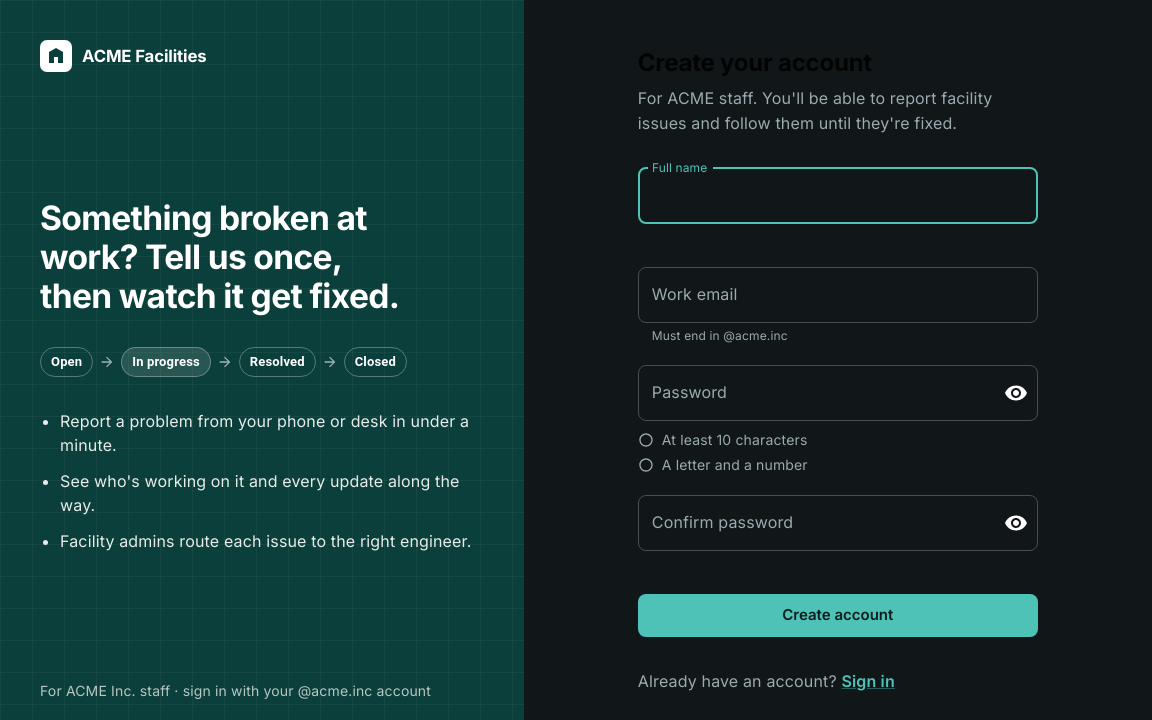
Scenario: Register page › catches passwords that do not match
Type "Sam Lee" into the field labelled "Full name" at x=838, y=196, box [638,168,1038,224]
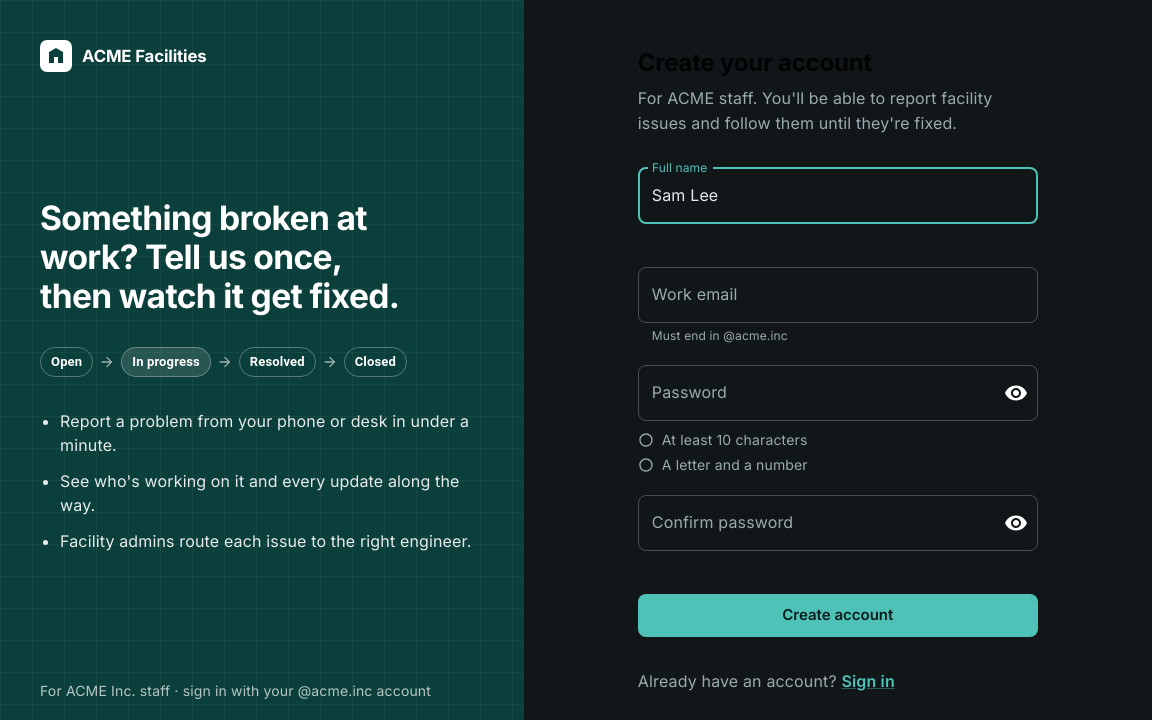
Type "sam.lee@acme.inc" into the field labelled "Work email" at x=838, y=294, box [638,266,1038,322]
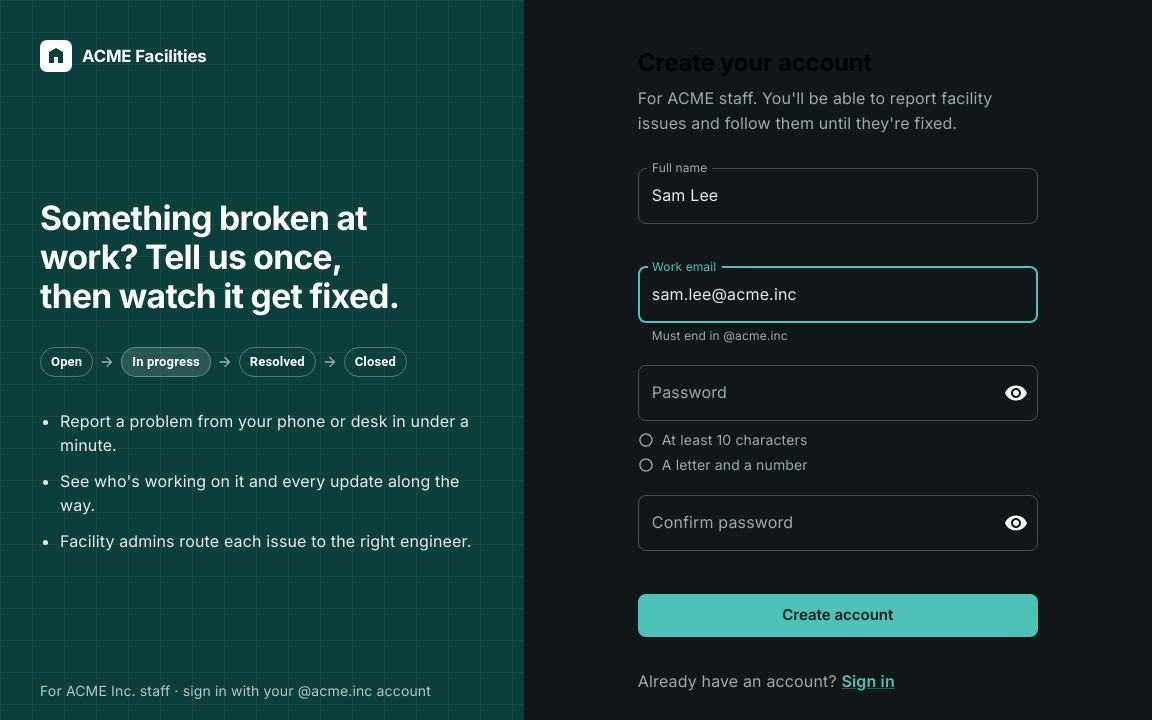
Type "Welcome2026" into the password field labelled "Password" at x=813, y=393, box [638,365,988,421]
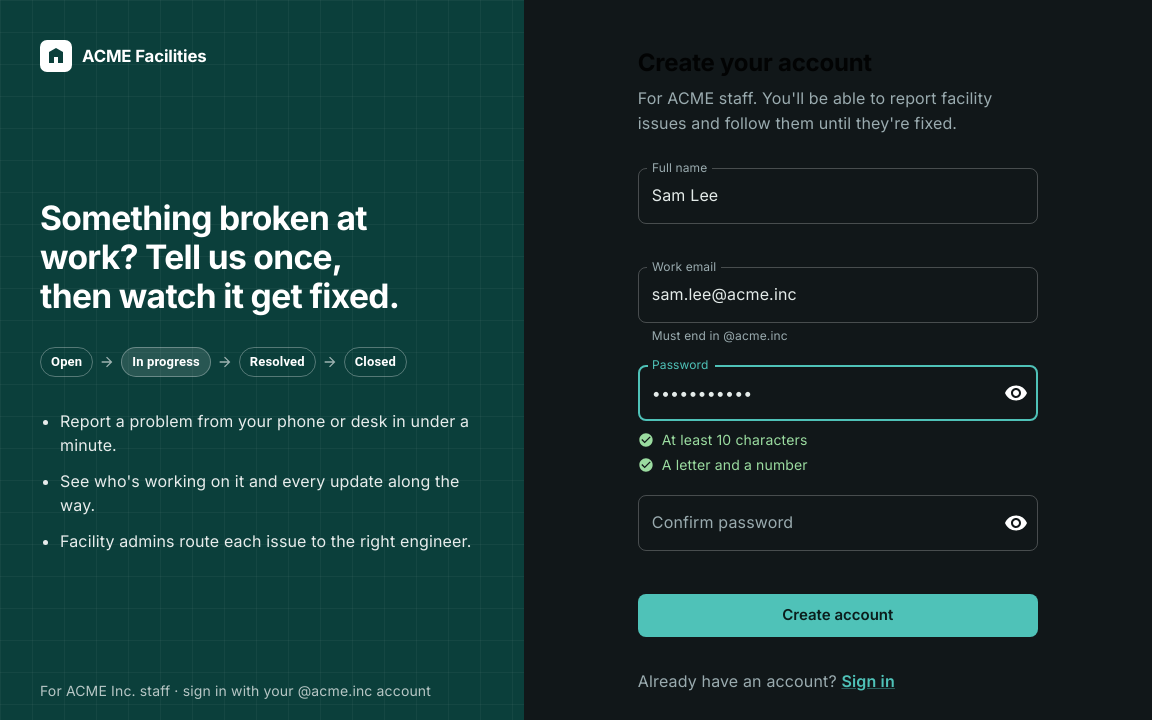
Type "Welcome2027" into the password field labelled "Confirm password" at x=813, y=523, box [638,495,988,551]
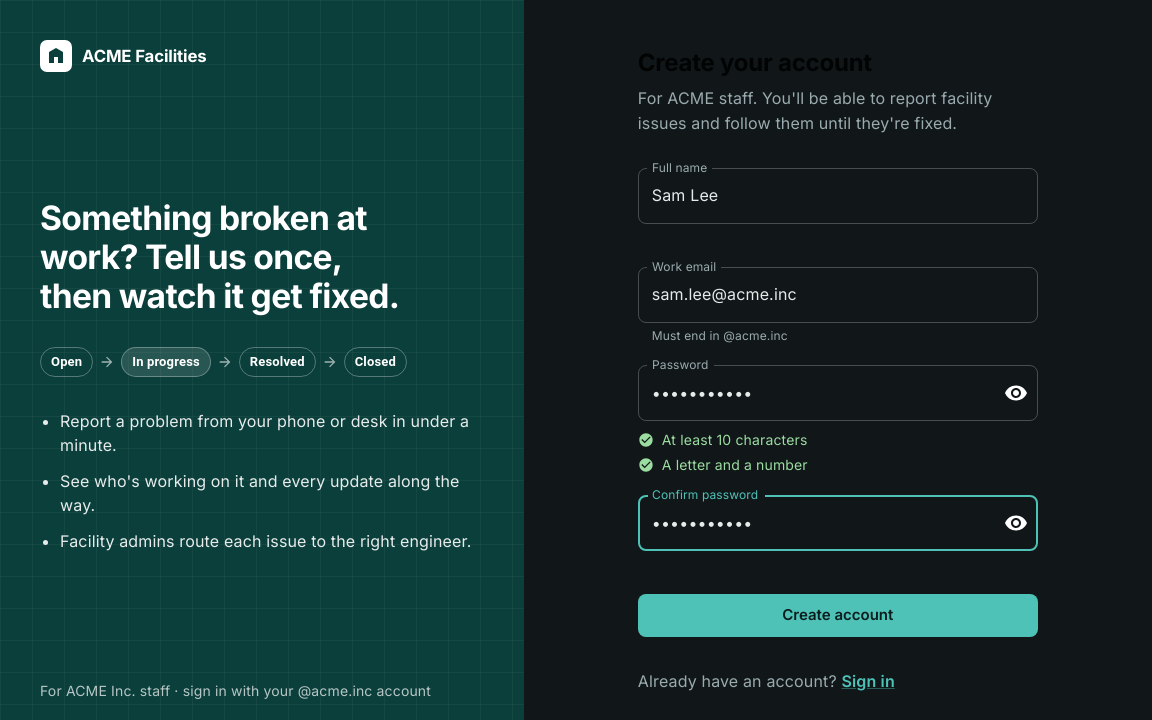
Click the button "Create account" at x=838, y=615, box [638,594,1038,637]
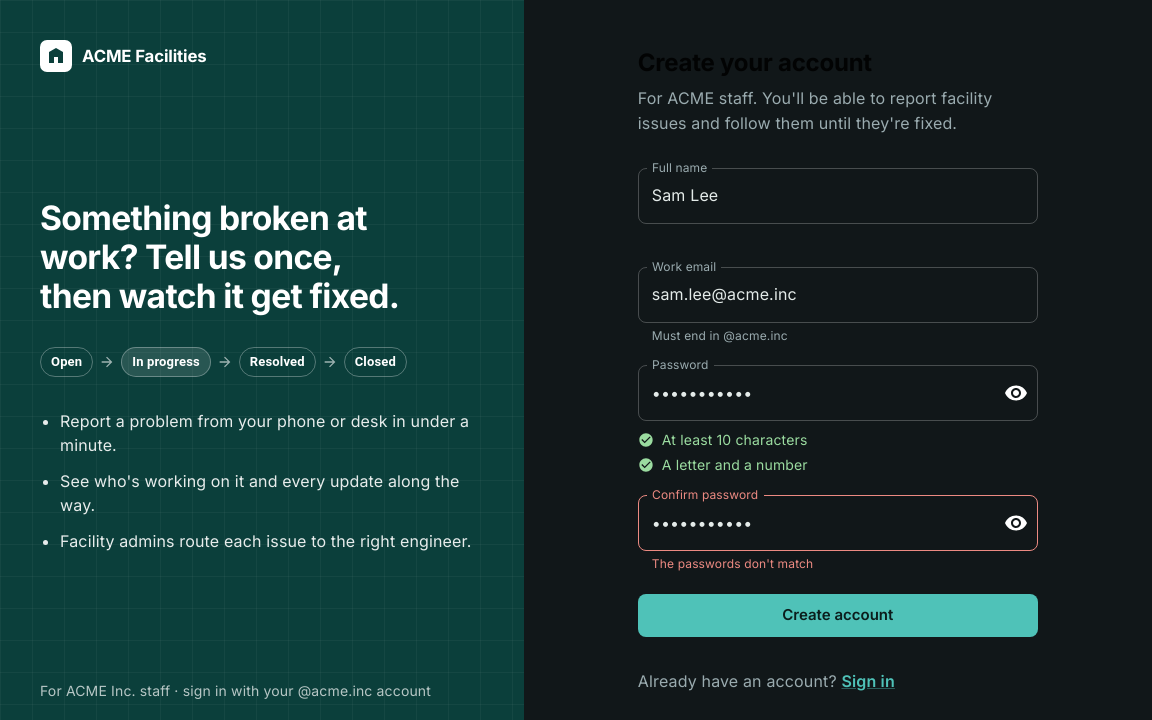
Now the text "The passwords don't match" is shown, box [652,556,813,571]
